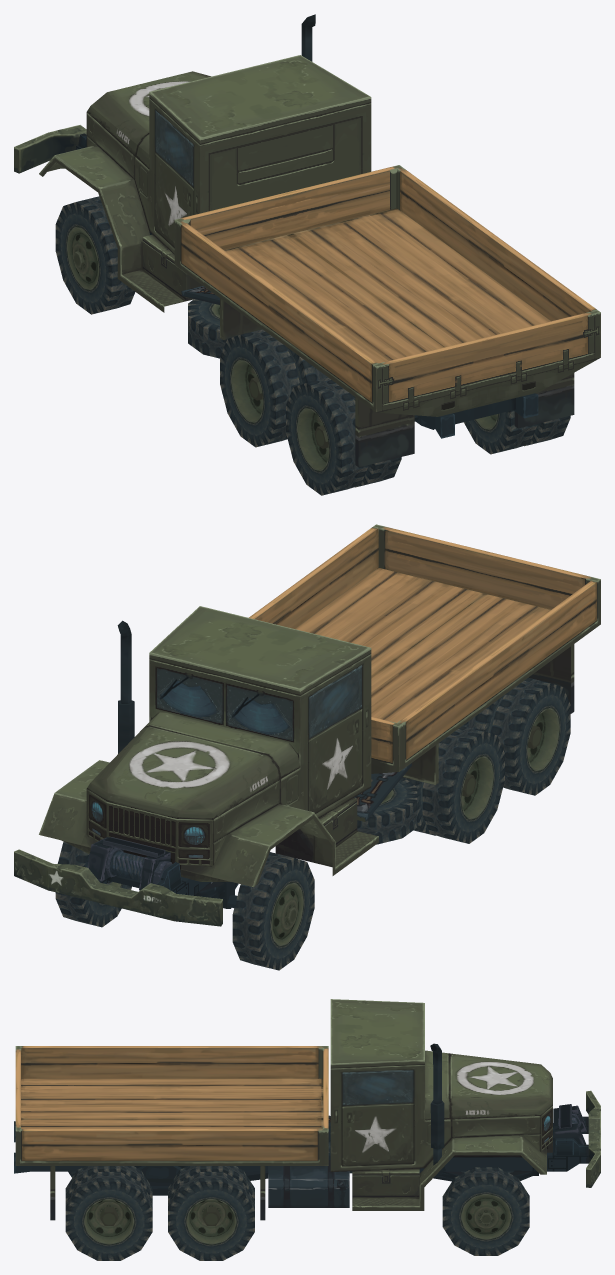
3 renders of one model, top to bottom at view 1: azimuth 30°, elevation 25°; view 2: azimuth 150°, elevation 25°; view 3: azimuth 270°, elevation 25°, orthographic. The views are drawn at different scales.
Visible parts, largest first — view 1: Cube.015, Cube.014, Cube.007, Cube.006, Cube.003, Cube.016, Cube, Cube.009, Cube.018, Cube.001, Cube.004, Cube.011; view 2: Cube.014, Cube.015, Cube.003, Cube.006, Cube.007, Cube.018, Cube, Cube.001, Cube.016, Cube.002, Cube.019, Cylinder (+2 smaller); view 3: Cube.015, Cube.014, Cube.002, Cube.011, Cube.010, Cube, Cube.012, Cylinder, Cube.018, Cube.019, Cube.009, Cube.008 (+2 smaller).
Boxes of the visible parts, left/top/right/bottom form: Cube.015: left=174, top=165, right=600, bottom=416; Cube.014: left=39, top=55, right=371, bottom=312; Cube.007: left=286, top=377, right=367, bottom=495; Cube.006: left=220, top=329, right=300, bottom=447; Cube.003: left=55, top=196, right=135, bottom=314; Cube.016: left=220, top=298, right=574, bottom=467; Cube: left=73, top=133, right=538, bottom=448; Cube.009: left=464, top=410, right=537, bottom=454; Cube.018: left=14, top=125, right=86, bottom=173; Cube.001: left=188, top=299, right=226, bottom=358; Cube.004: left=351, top=394, right=401, bottom=487; Cube.011: left=524, top=415, right=570, bottom=446; Cube.014: left=39, top=606, right=378, bottom=887; Cube.015: left=249, top=524, right=600, bottom=773; Cube.003: left=232, top=852, right=314, bottom=970; Cube.006: left=422, top=726, right=504, bottom=843; Cube.007: left=490, top=677, right=570, bottom=795; Cube.018: left=14, top=849, right=222, bottom=926; Cube: left=82, top=725, right=542, bottom=923; Cube.001: left=357, top=777, right=417, bottom=844; Cube.016: left=403, top=644, right=574, bottom=785; Cube.002: left=55, top=842, right=131, bottom=927; Cube.019: left=87, top=837, right=170, bottom=890; Cylinder: left=117, top=620, right=134, bottom=753; Cube.015: left=15, top=1046, right=328, bottom=1165; Cube.014: left=330, top=999, right=552, bottom=1210; Cube.002: left=442, top=1167, right=529, bottom=1255; Cube.011: left=65, top=1172, right=152, bottom=1260; Cube.010: left=168, top=1172, right=254, bottom=1260; Cube: left=14, top=1116, right=588, bottom=1225; Cube.012: left=268, top=1115, right=349, bottom=1207; Cylinder: left=430, top=1043, right=444, bottom=1165; Cube.018: left=586, top=1090, right=600, bottom=1187; Cube.019: left=553, top=1104, right=586, bottom=1152; Cube.009: left=65, top=1166, right=152, bottom=1200; Cube.008: left=168, top=1166, right=254, bottom=1200.
Bounding box in the file's own units: 8.21 × 9.25 × 23.38.
3 materials, 3 textured.
